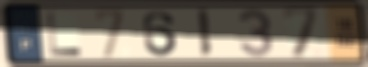3: (235, 7, 275, 59)
6: (141, 10, 181, 57)
7: (281, 5, 322, 61), (93, 7, 129, 61)
I: (195, 7, 214, 60)
L: (45, 11, 86, 57)
